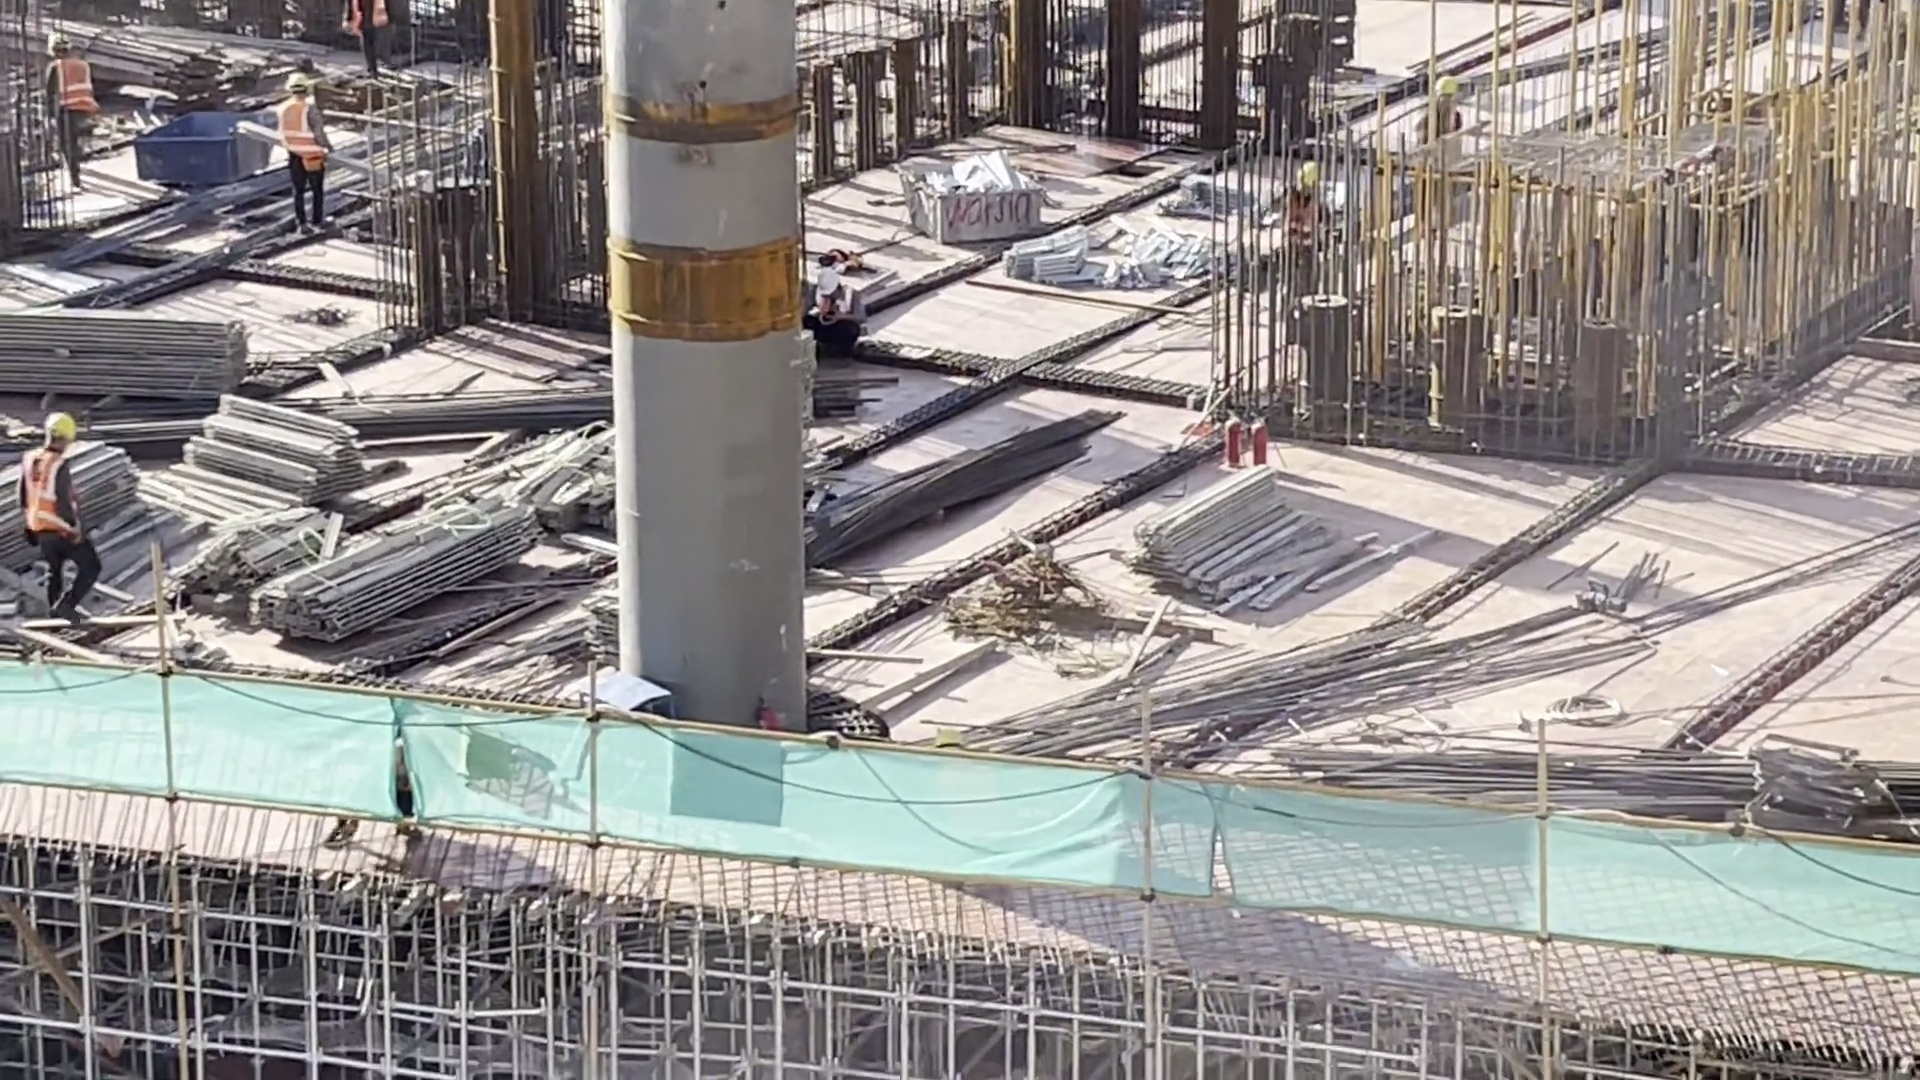helmet: (37, 401, 75, 453), (275, 57, 308, 105), (44, 28, 77, 60), (812, 260, 834, 301)
hopper: (895, 142, 1064, 243), (128, 108, 277, 195)
person: (18, 402, 114, 609), (252, 64, 345, 215), (25, 24, 100, 178), (799, 258, 873, 386), (1285, 143, 1328, 279)
vest: (23, 441, 81, 556), (270, 95, 326, 178), (48, 56, 91, 113)
wood: (248, 486, 540, 645), (6, 282, 241, 420), (1138, 467, 1326, 615), (173, 390, 377, 515)
